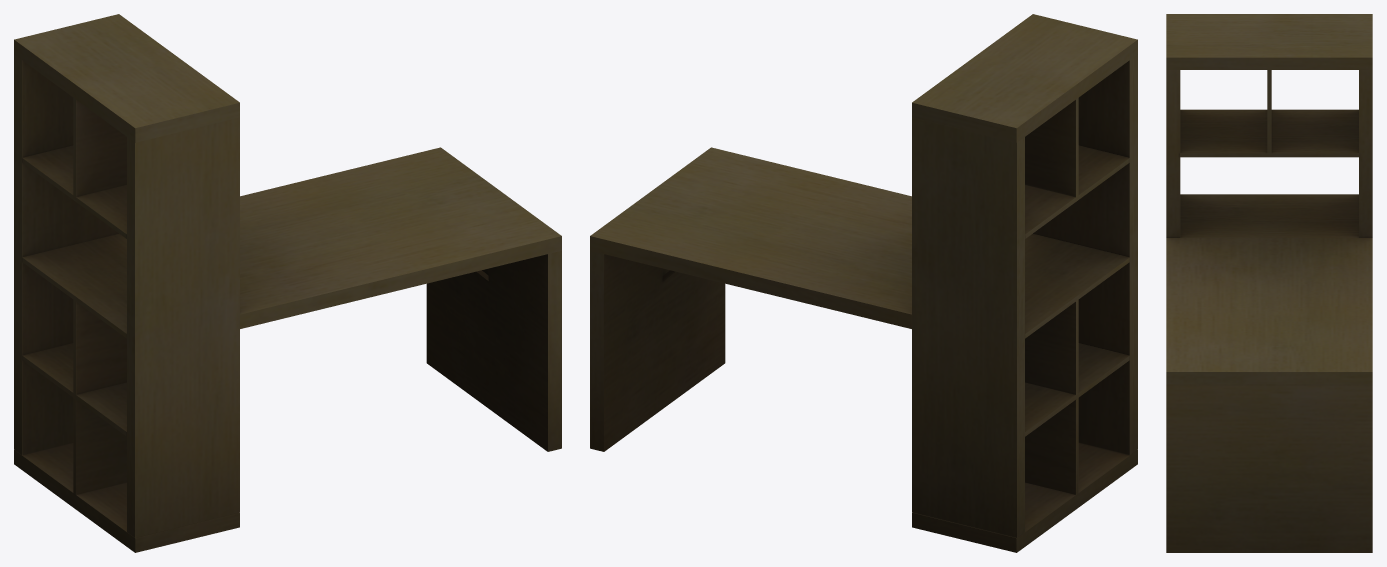
Rendered from office_desk01.glb.
3 renders of one model, left to right at view 1: azimuth 30°, elevation 25°; view 2: azimuth 150°, elevation 25°; view 3: azimuth 270°, elevation 25°, orthographic. The views are drawn at different scales.
Visible parts, largest first — view 1: Prop.office_desk01; view 2: Prop.office_desk01; view 3: Prop.office_desk01.
Boxes of the visible parts, bbox=[...] form: Prop.office_desk01: bbox=[14, 14, 561, 552]; Prop.office_desk01: bbox=[590, 14, 1137, 552]; Prop.office_desk01: bbox=[1166, 14, 1372, 552].
Size of the model in its own units: 1.67 by 1.59 by 0.8226.
1 material, 1 textured.
